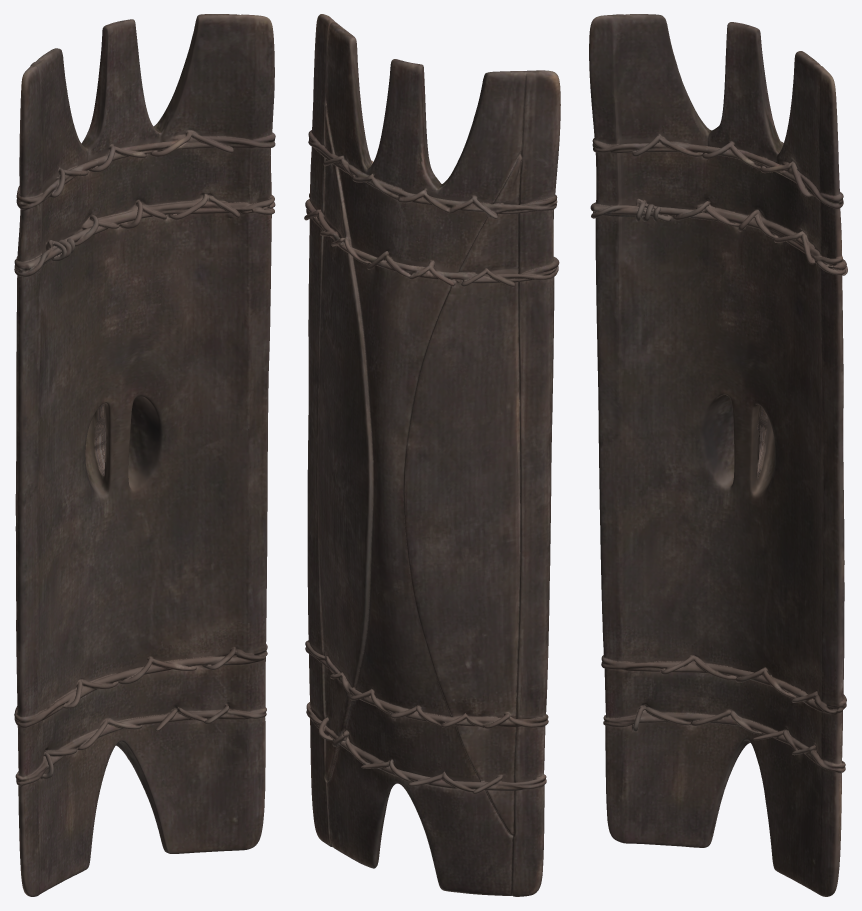
File: mt.province-kalasag.glb
3 renders of one model, left to right at view 1: azimuth 30°, elevation 25°; view 2: azimuth 150°, elevation 25°; view 3: azimuth 330°, elevation 25°, orthographic.
Visible parts, largest first — view 1: Mesh_0; view 2: Mesh_0; view 3: Mesh_0.
Part boxes in pixels (x1=…): Mesh_0: x1=14, y1=14, x2=275, y2=896; Mesh_0: x1=304, y1=14, x2=560, y2=896; Mesh_0: x1=589, y1=14, x2=847, y2=896.
Size of the model in its own units: 0.33 by 1.03 by 0.13.
Materials: 1 (1 with a texture image).
